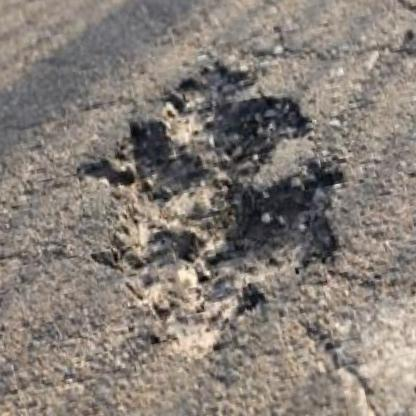pothole: (60, 43, 368, 373)
